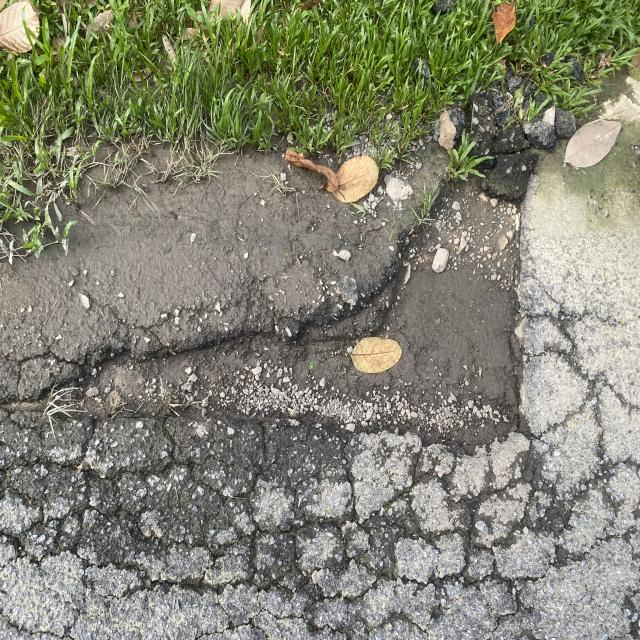pothole: (46, 247, 622, 448)
